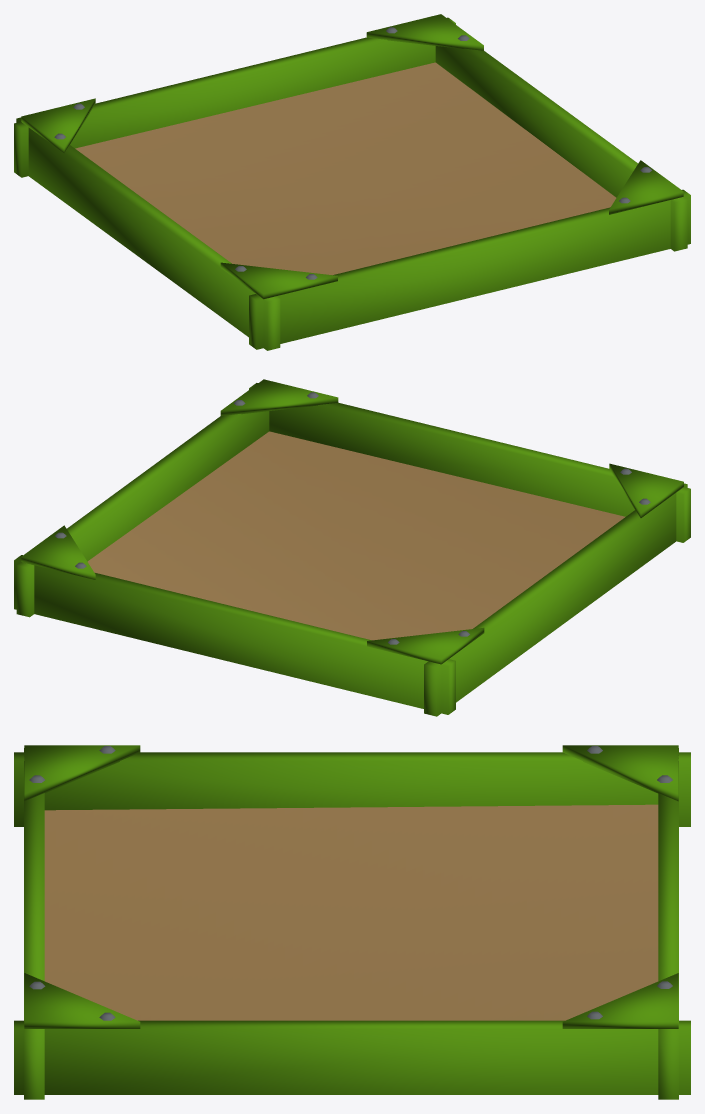
The model's file is SM_Sandbox_01.fbx.
The picture shows the model from 3 angles, top to bottom: view 1: azimuth 30°, elevation 25°; view 2: azimuth 150°, elevation 25°; view 3: azimuth 270°, elevation 25°; orthographic projection. The views are drawn at different scales.
Parts seen in each view (by area): view 1: SM_Sandbox_01; view 2: SM_Sandbox_01; view 3: SM_Sandbox_01.
Part boxes in pixels (x1=…): SM_Sandbox_01: x1=14, y1=14, x2=690, y2=350; SM_Sandbox_01: x1=14, y1=379, x2=690, y2=716; SM_Sandbox_01: x1=14, y1=745, x2=690, y2=1099.
Size of the model in its own units: 331 by 40.95 by 331.
Materials: 1 (1 with a texture image).
